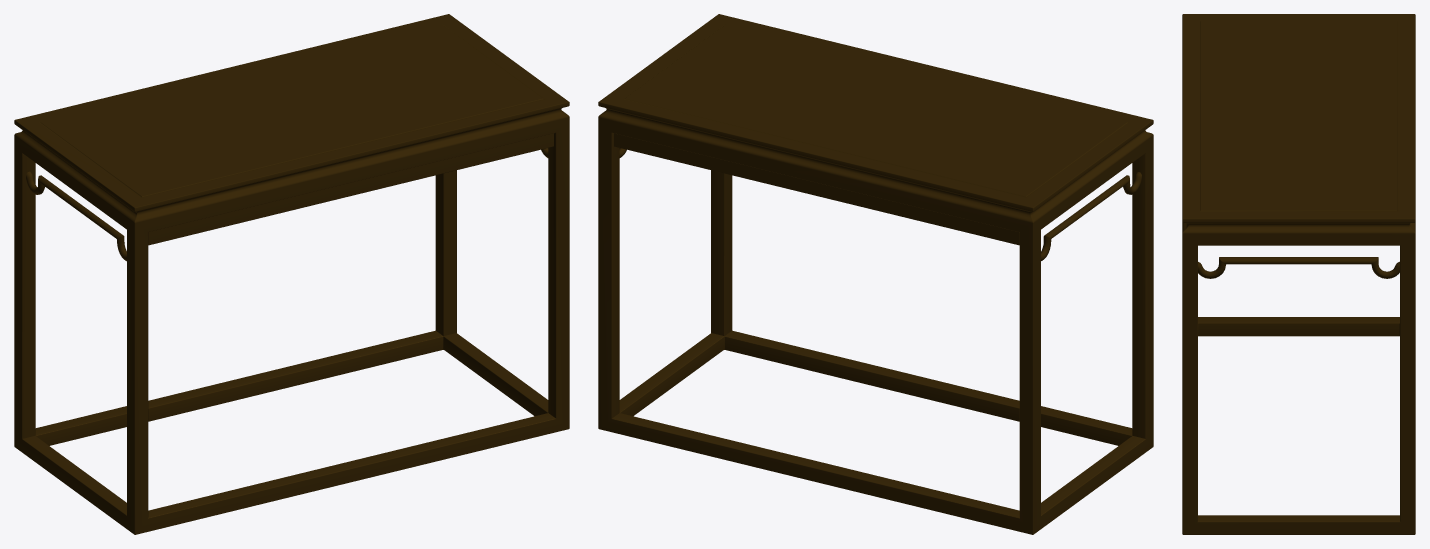
File: Restaurant_Сounter.fbx
3 renders of one model, left to right at view 1: azimuth 30°, elevation 25°; view 2: azimuth 150°, elevation 25°; view 3: azimuth 270°, elevation 25°, orthographic. The views are drawn at different scales.
Visible parts, largest first — view 1: Restaurant_counter; view 2: Restaurant_counter; view 3: Restaurant_counter.
Boxes of the visible parts, x1,y1,x2,y2 form: Restaurant_counter: [14, 14, 569, 534]; Restaurant_counter: [598, 14, 1153, 534]; Restaurant_counter: [1182, 14, 1415, 534].
Bounding box in the file's own units: 125 × 89.97 × 60.
